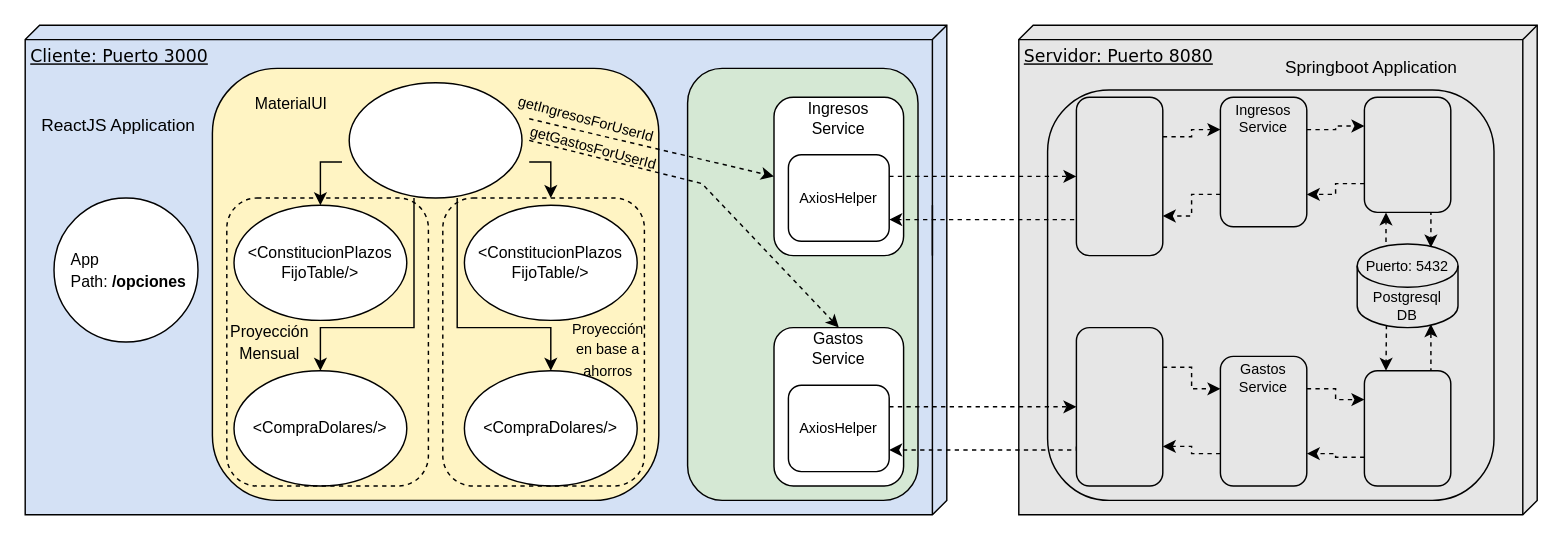
This 1562x540 diagram has some shape labels left out. Here are the shapes that lost their labels. From the top down, the centre of each, then its label:
pixel 435 139: <OpcionesSimulator/>
pixel 1407 154: Ingresos Repository
pixel 1119 176: Ingresos Controller
pixel 1119 406: Gastos Controller
pixel 1407 427: Gastos Repository
